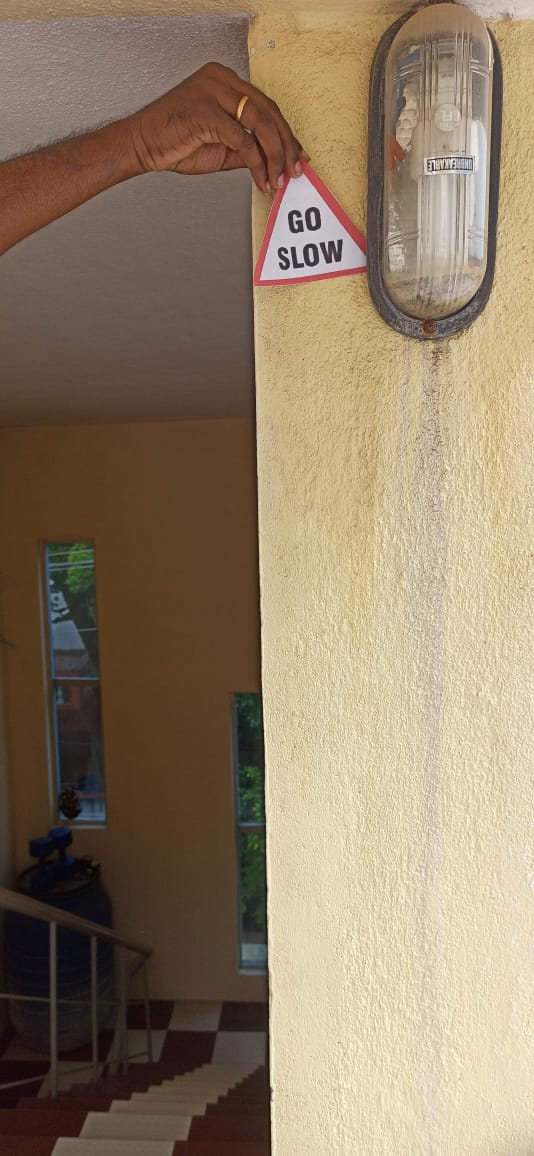GO SLOW: (241, 140, 387, 297)
